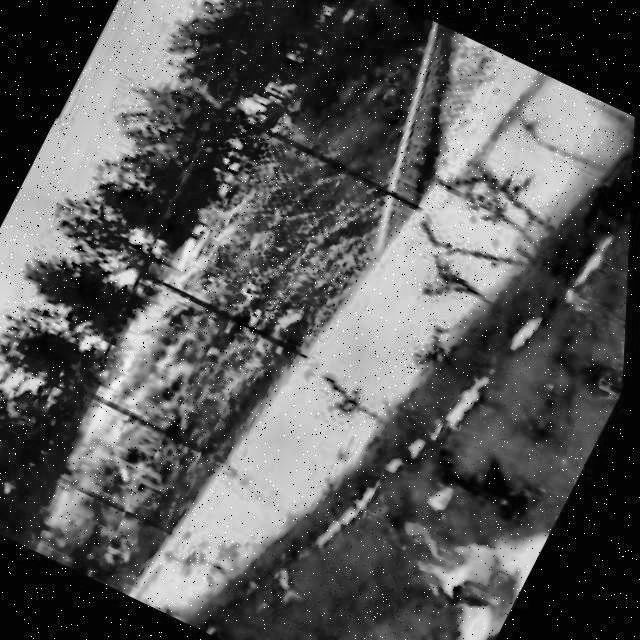Fire: (370, 501, 541, 628)
